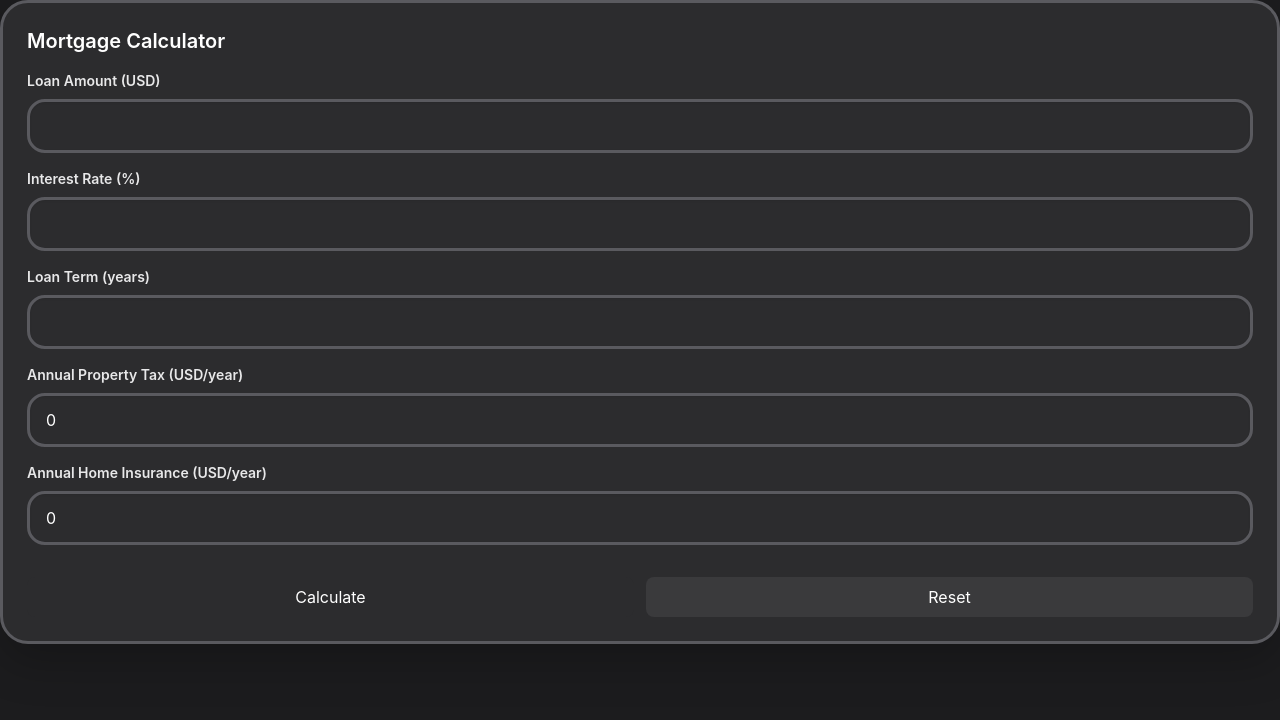
Test: MortgageCalculator › accepts user input and displays payment summary
The image size is (1280, 720).
Type "300000" into the field labelled "Loan Amount (USD)" at (640, 126), box [27,99,1253,153]
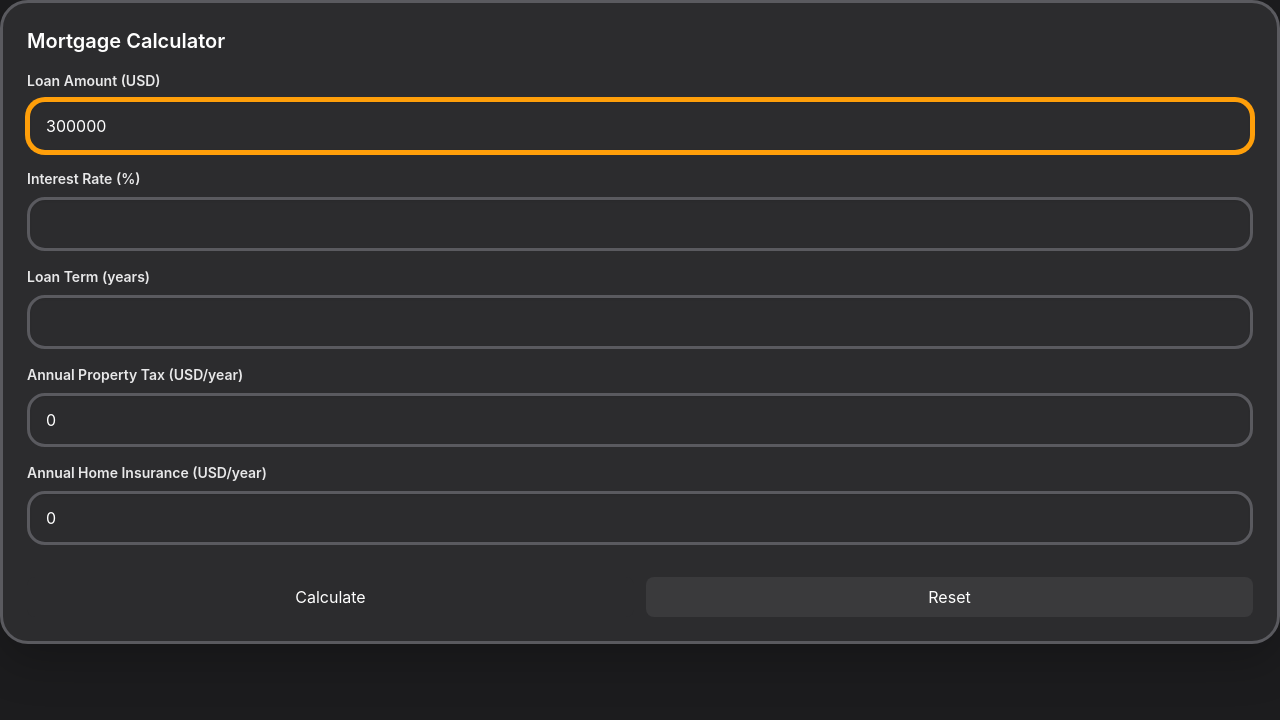
Type "4.5" into the field labelled "Interest Rate (%)" at (640, 224), box [27,197,1253,251]
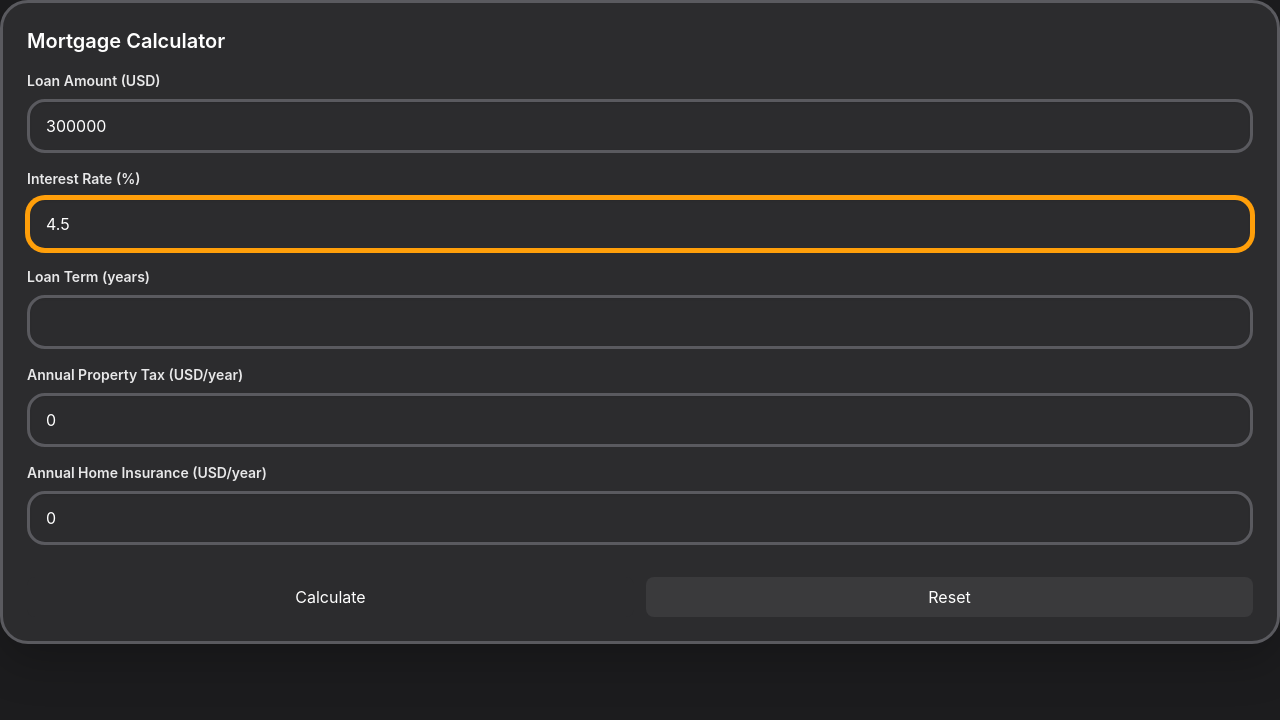
Type "30" into the field labelled "Loan Term (years)" at (640, 322), box [27,295,1253,349]
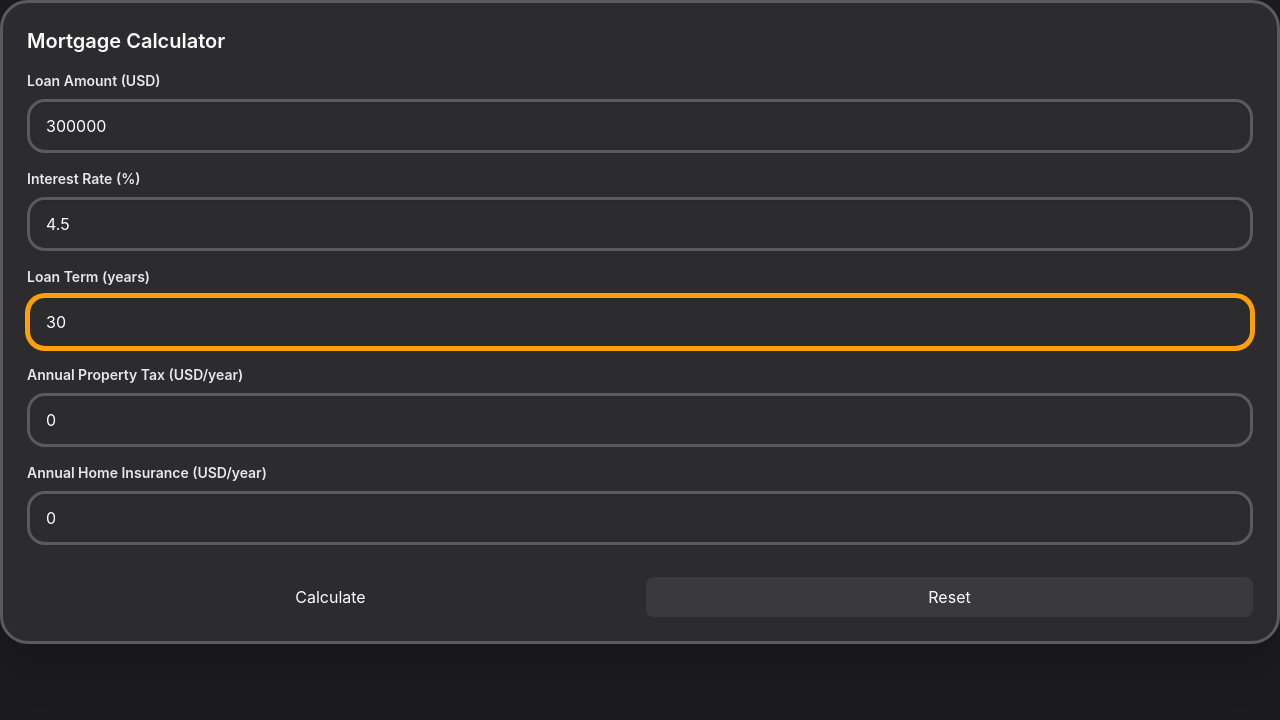
Click the button "Calculate" at (330, 597), box [27,577,634,617]
(page scrolled)
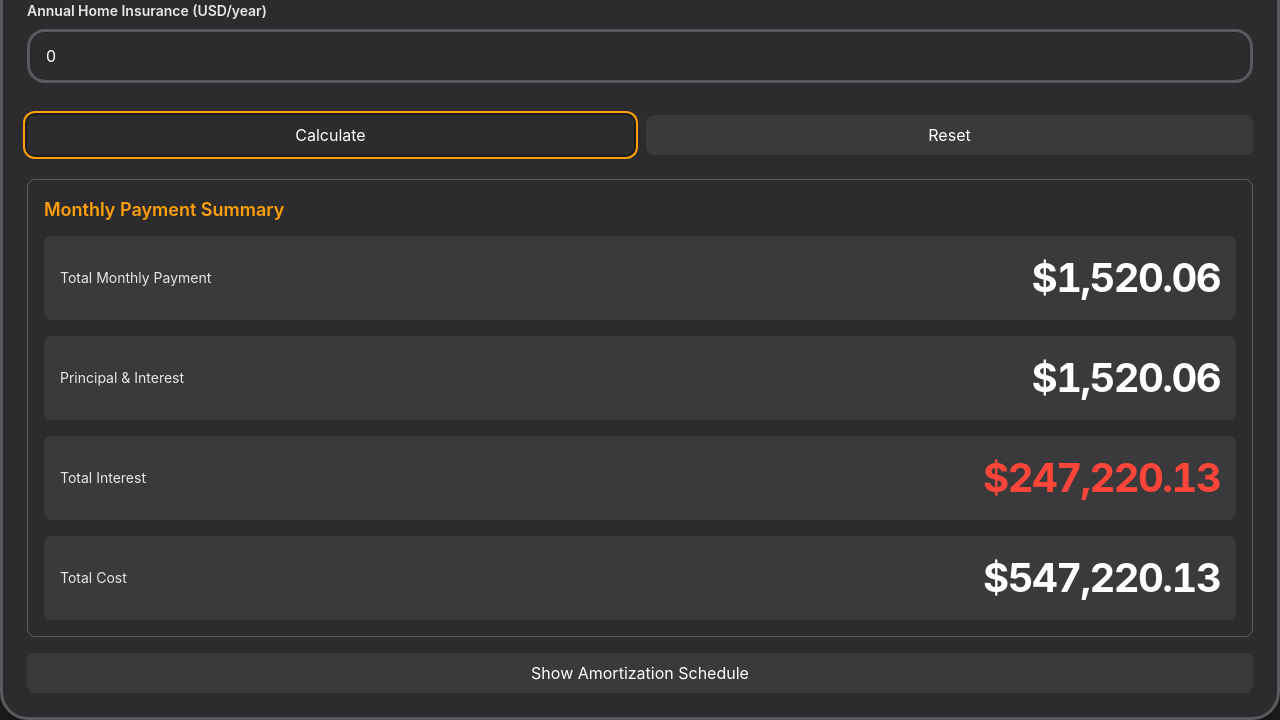
Expected: the heading "Monthly Payment Summary" is shown, [44,199,284,220]
Expected: the text "Total Interest" is shown, [60,468,146,488]
Expected: the text "Total Cost" is shown, [60,568,127,588]
